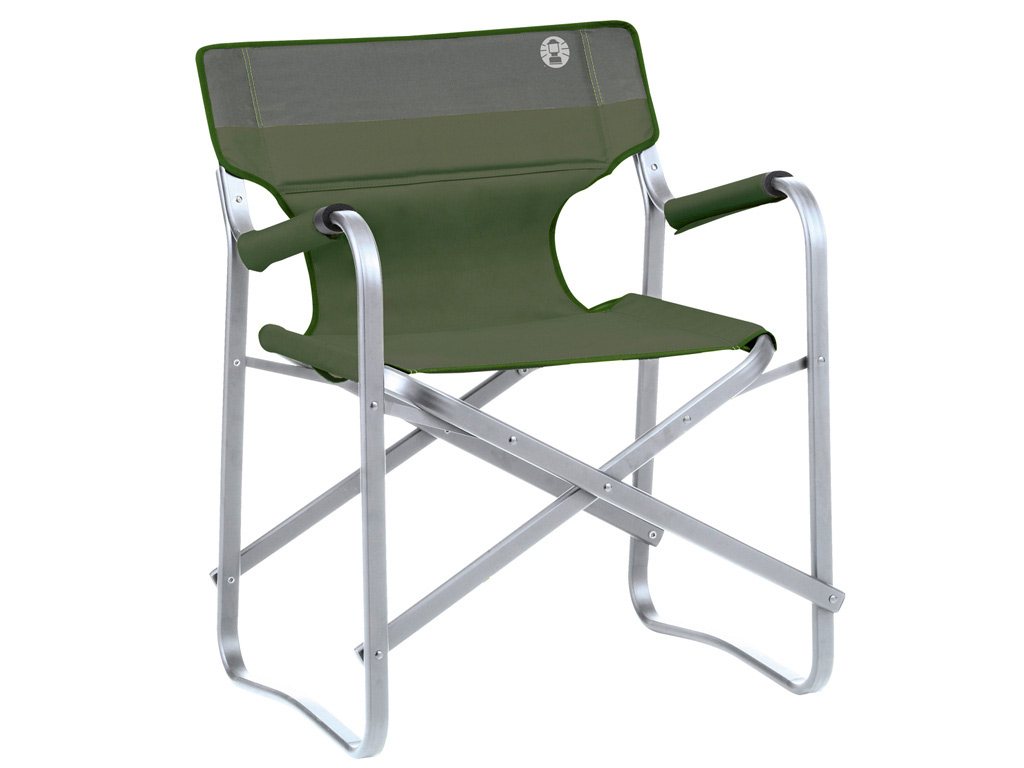chairs: (181, 4, 865, 768)
